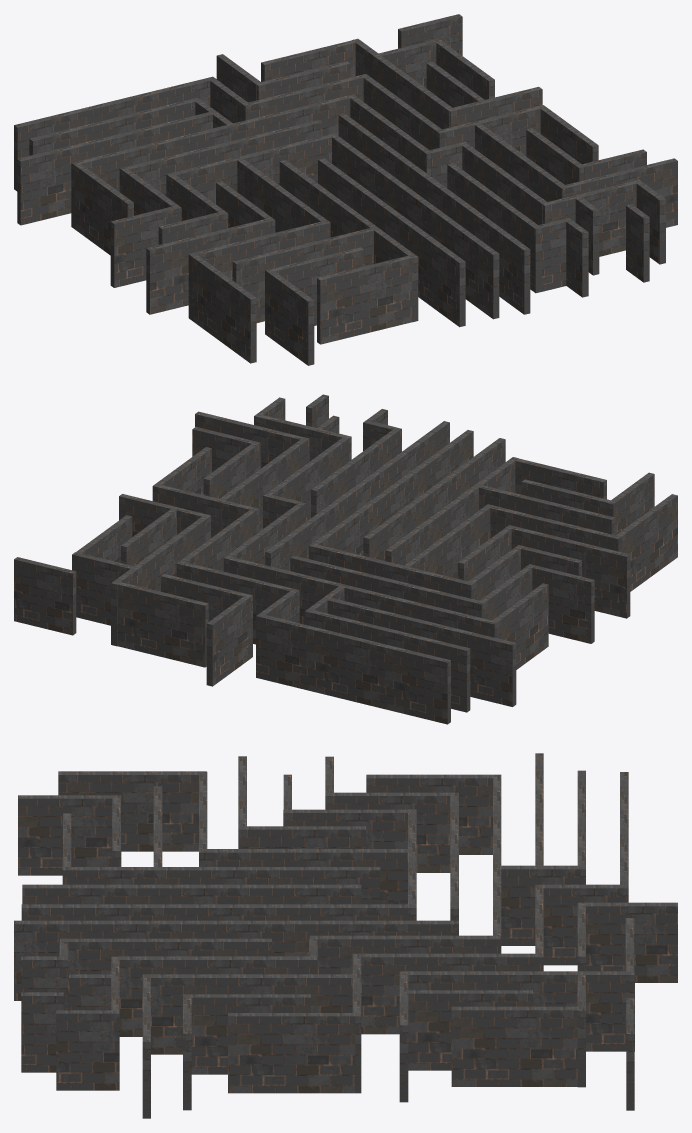
File: Phase2New.fbx
3 renders of one model, top to bottom at view 1: azimuth 30°, elevation 25°; view 2: azimuth 150°, elevation 25°; view 3: azimuth 270°, elevation 25°, orthographic. The views are drawn at different scales.
Visible parts, largest first — view 1: ChangedWall1, crouchWall3, wall__42_, crouchWall4, ChangedWall2, crouchWall5_6, wall__46_, wall__49_, wall__7_, wall__41_, wall__40_, wall__37_ (+40 smaller); view 2: wall__7_, wall__6_, ChangedWall2, crouchWall3, crouchWall5_6, ChangedWall1, crouchWall4, wall__49_, wall, wall__32_, wall__46_, wall__38_ (+37 smaller); view 3: wall__10_, wall__2_, crouchWall3, wall__3_, wall__46_, crouchWall4, wall__8_, wall__45_, ChangedWall1, wall__22_, wall__41_, wall__14_ (+35 smaller).
Boxes of the visible parts, left/top/right/bottom form: ChangedWall1: left=329, top=135, right=499, bottom=319; crouchWall3: left=338, top=113, right=530, bottom=314; wall__42_: left=317, top=255, right=411, bottom=344; crouchWall4: left=318, top=158, right=465, bottom=327; ChangedWall2: left=17, top=111, right=213, bottom=225; crouchWall5_6: left=71, top=95, right=350, bottom=228; wall__46_: left=188, top=252, right=256, bottom=363; wall__49_: left=146, top=218, right=272, bottom=314; wall__7_: left=14, top=76, right=215, bottom=191; wall__41_: left=279, top=160, right=418, bottom=322; wall__40_: left=166, top=133, right=337, bottom=203; wall__37_: left=119, top=120, right=322, bottom=195; wall__7_: left=256, top=614, right=450, bottom=724; wall__6_: left=117, top=582, right=208, bottom=667; ChangedWall2: left=326, top=597, right=516, bottom=706; crouchWall3: left=265, top=421, right=449, bottom=570; crouchWall5_6: left=229, top=557, right=497, bottom=638; ChangedWall1: left=311, top=430, right=473, bottom=555; crouchWall4: left=363, top=438, right=505, bottom=560; wall__49_: left=511, top=526, right=630, bottom=618; wall: left=14, top=557, right=76, bottom=635; wall__32_: left=304, top=609, right=470, bottom=712; wall__46_: left=616, top=494, right=677, bottom=591; wall__38_: left=527, top=565, right=594, bottom=643; wall__10_: left=228, top=1013, right=355, bottom=1093; wall__2_: left=451, top=1006, right=578, bottom=1086; crouchWall3: left=14, top=920, right=458, bottom=1000; wall__3_: left=401, top=971, right=634, bottom=1051; wall__46_: left=58, top=771, right=206, bottom=851; crouchWall4: left=22, top=884, right=361, bottom=904; wall__8_: left=143, top=974, right=354, bottom=1054; wall__45_: left=18, top=795, right=121, bottom=875; ChangedWall1: left=21, top=904, right=414, bottom=920; wall__22_: left=582, top=902, right=677, bottom=982; wall__41_: left=62, top=867, right=380, bottom=904; wall__14_: left=353, top=953, right=543, bottom=1034.
Bounding box in the file's own units: 32235 × 4000 × 31325.
1 material, 1 textured.
